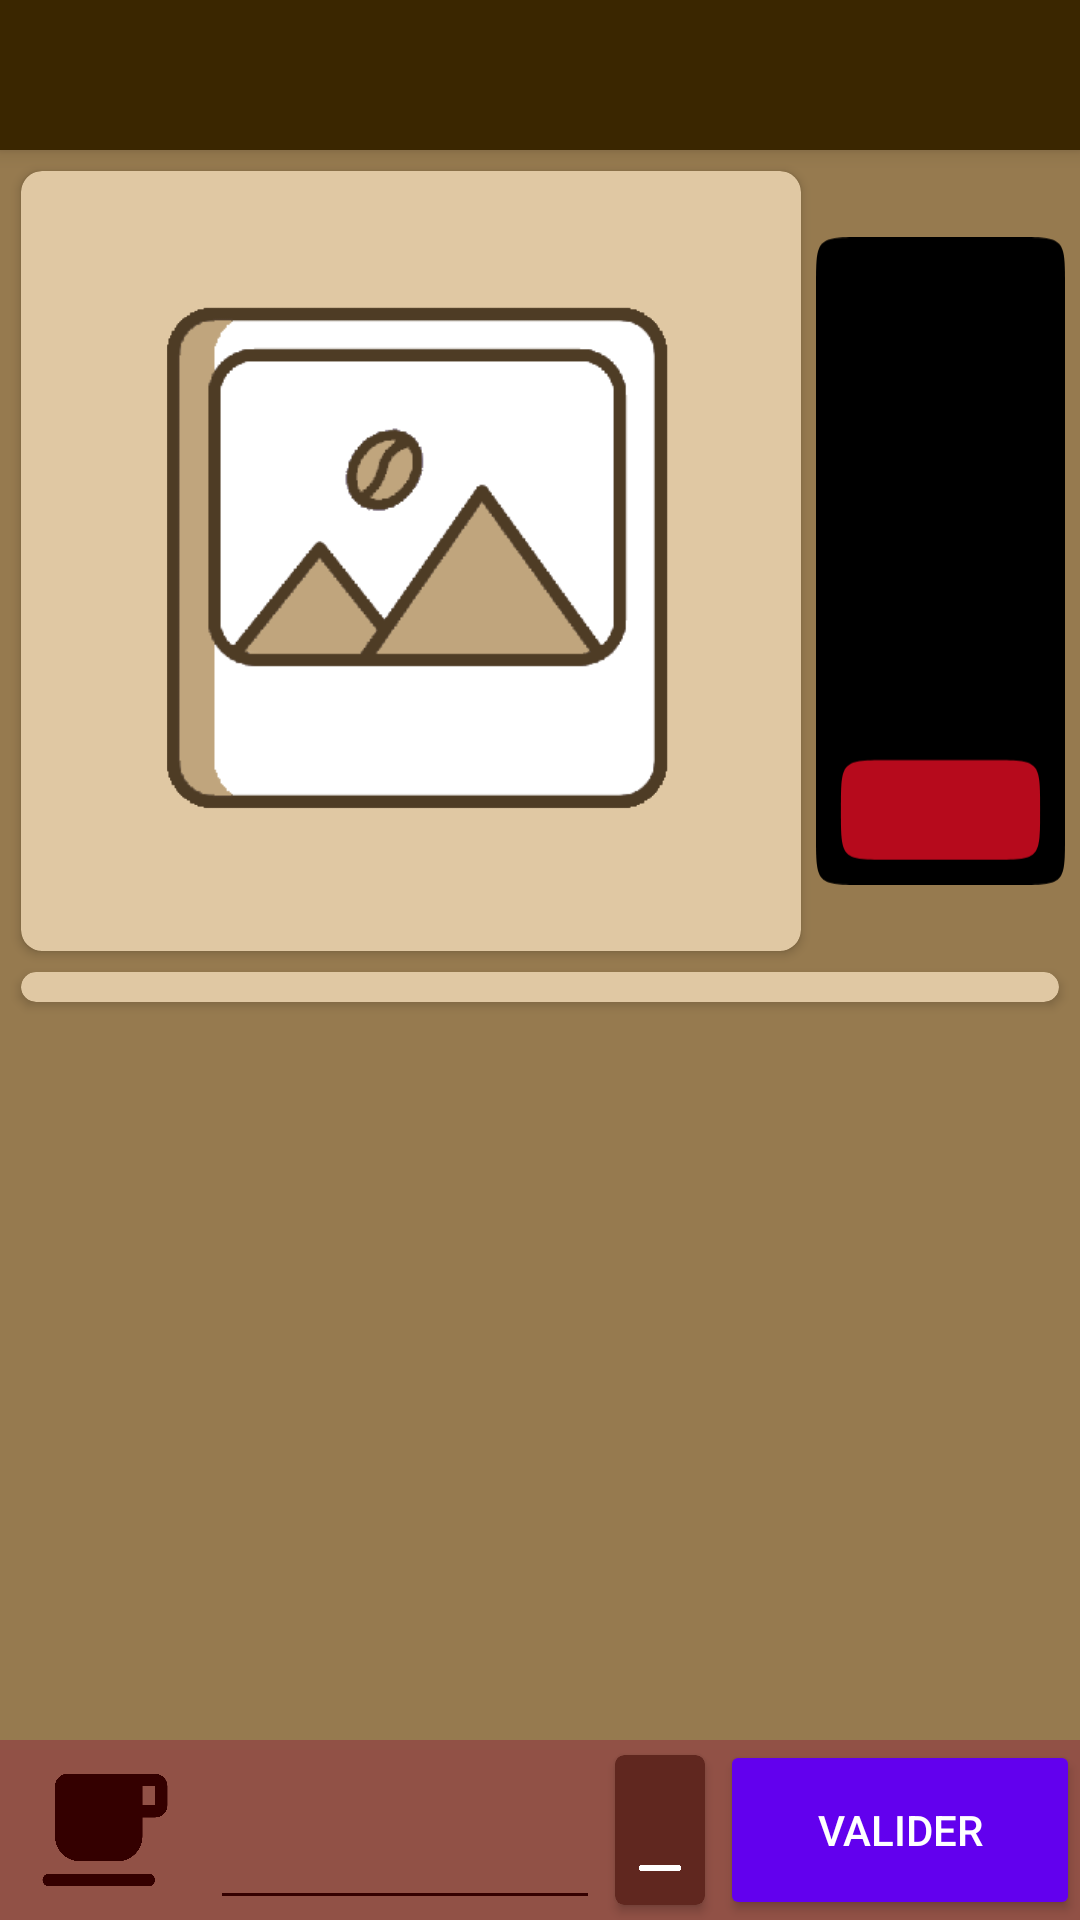

Icons on this 1080*1920 Android screen, each with its box as detection(x1, y1, x2, y2):
local cafe: detection(42, 1774, 168, 1886)
